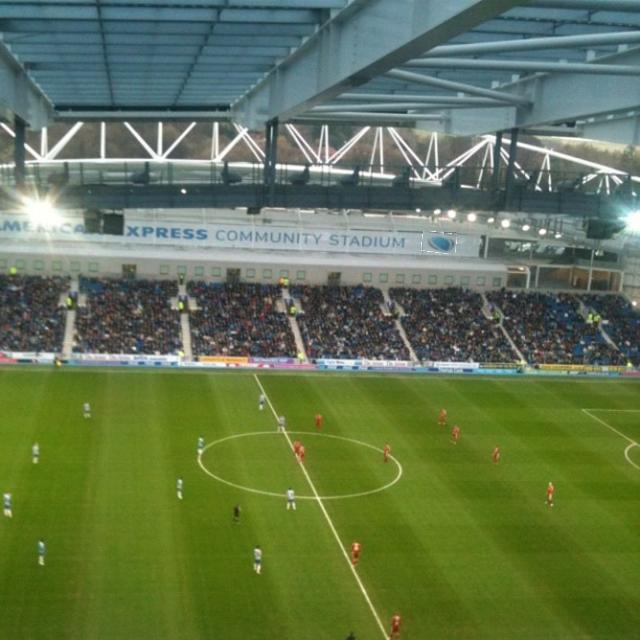Football: (422, 232, 456, 254)
